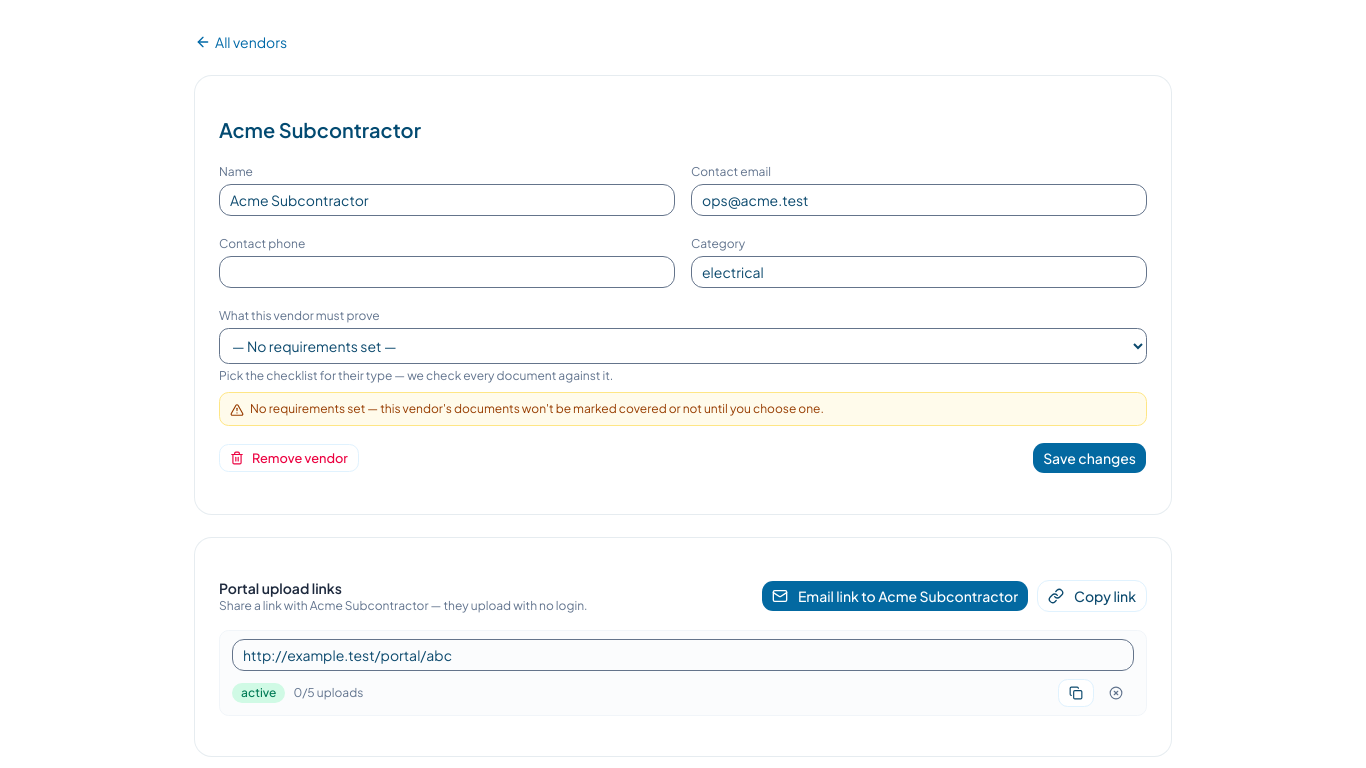
Test: VendorDetailPage — contact email validation (#369) › blocks Save and explains why when the edited email is malformed
Expected: the button "Save changes" is enabled, [1032, 442, 1147, 474]
Replace the text in the field labelled "Contact email" with "jane@acme,com" at {"x": 919, "y": 200}, box [691, 184, 1147, 216]
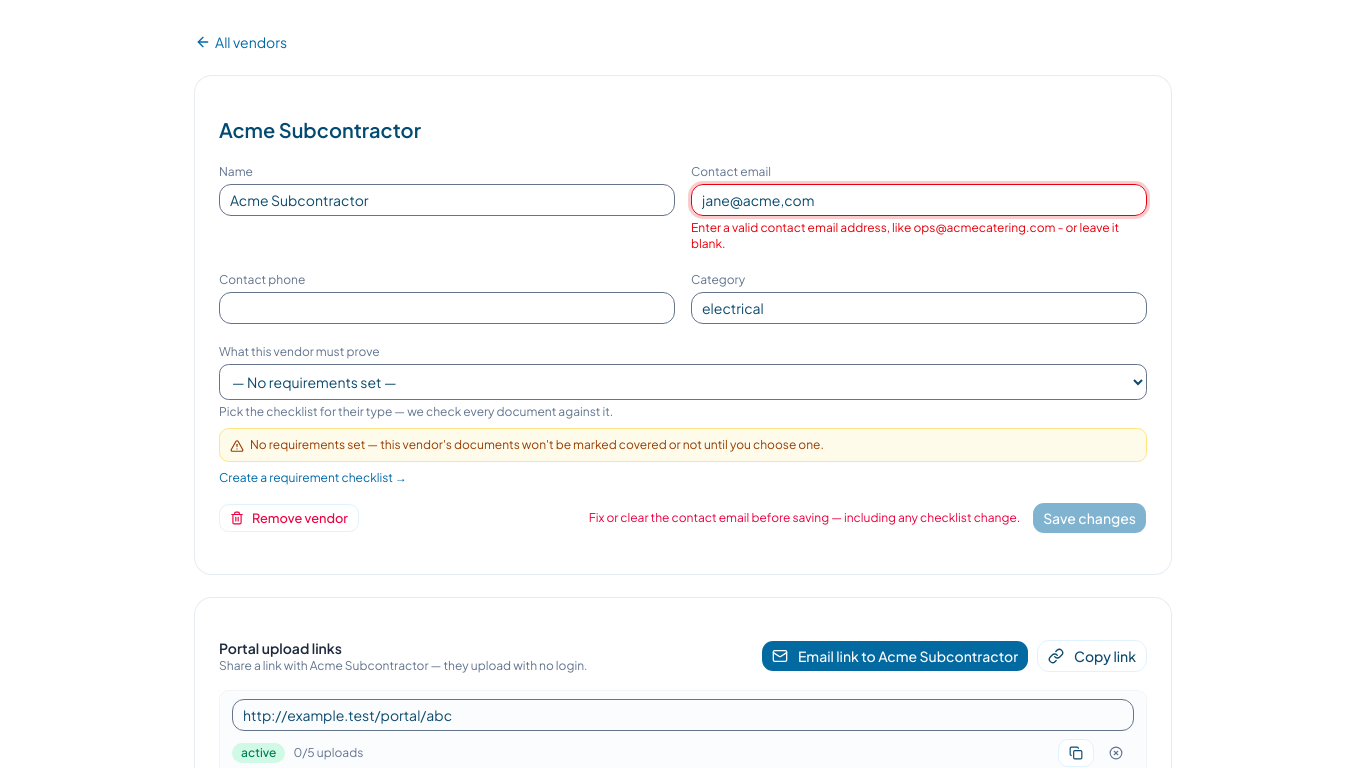
Now the button "Save changes" is disabled, box [1032, 502, 1147, 534]
Now the text "Enter a valid contact email address" is shown, box [691, 220, 1119, 251]
